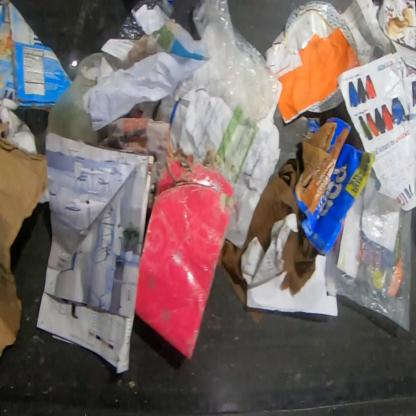cardboard: (134, 148, 235, 362), (0, 119, 50, 360), (292, 116, 376, 256), (0, 0, 74, 116), (271, 0, 356, 54), (377, 0, 415, 72), (307, 87, 345, 113)
soft_plastic: (324, 174, 414, 334), (45, 0, 127, 147), (191, 0, 279, 125), (116, 0, 176, 41), (346, 44, 378, 72)
